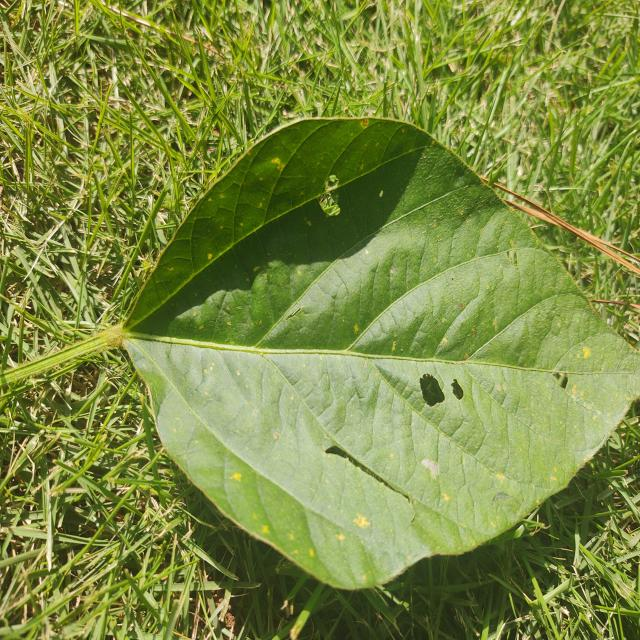Soybean: (120, 118, 640, 640)
downey_mildew: (409, 331, 640, 549), (457, 286, 640, 379), (451, 351, 596, 456), (548, 343, 640, 454), (417, 251, 519, 349), (256, 256, 363, 347), (302, 488, 397, 590), (246, 459, 327, 570), (320, 116, 413, 206), (345, 274, 443, 358), (121, 233, 210, 325), (231, 128, 312, 228), (352, 370, 418, 485), (188, 169, 262, 264), (390, 141, 467, 228), (453, 438, 520, 536), (439, 202, 516, 276), (446, 255, 517, 322), (262, 391, 309, 489), (182, 420, 233, 505), (412, 500, 474, 561), (492, 252, 524, 336)
